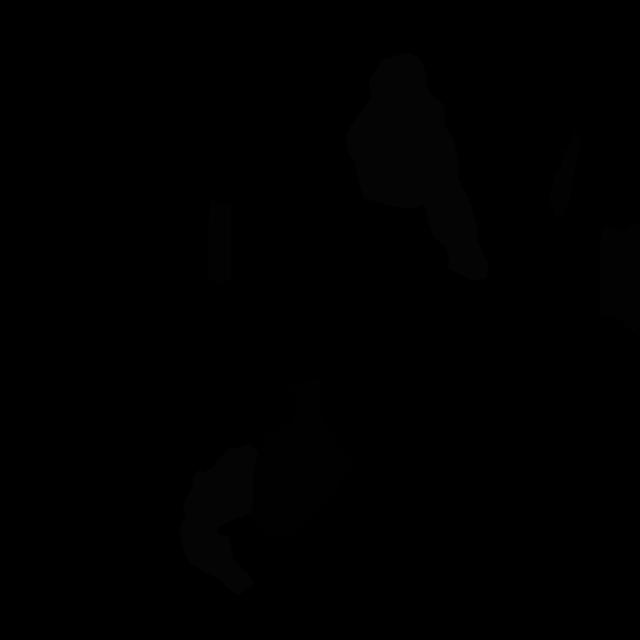cardboard: (600, 222, 640, 341), (548, 131, 582, 219), (207, 200, 231, 282)
rigid_plastic: (249, 378, 356, 543)
soft_plastic: (346, 53, 488, 281), (180, 443, 258, 595)
